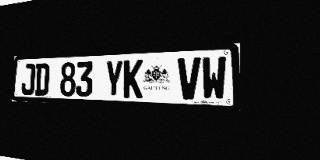3: (76, 61, 93, 97)
8: (60, 62, 76, 96)
D: (34, 63, 50, 96)
J: (21, 63, 35, 95)
K: (123, 59, 143, 98)
V: (177, 57, 201, 100)
W: (201, 56, 226, 100)
Y: (104, 60, 123, 98)
